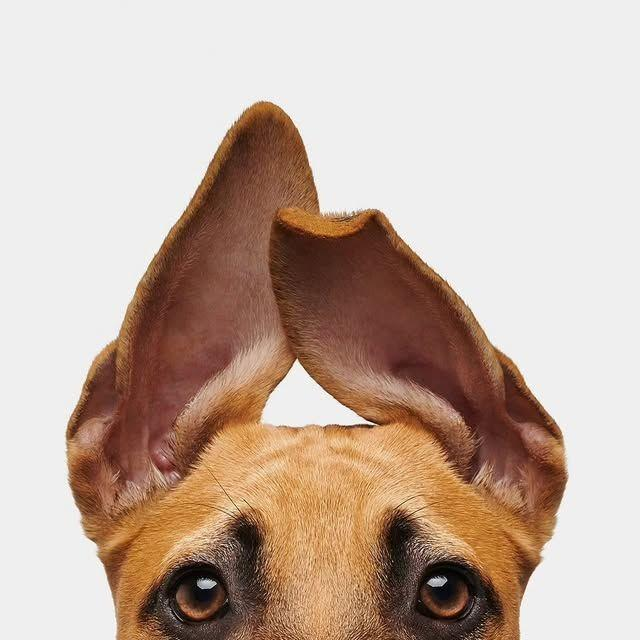adult_dog: (63, 102, 570, 640)
